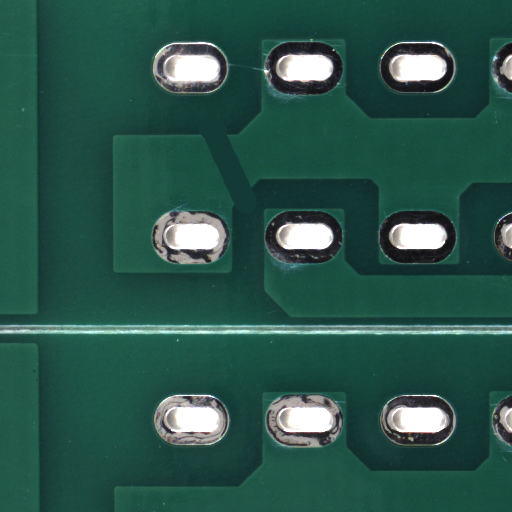Open_circuit: (227, 169, 290, 252)
